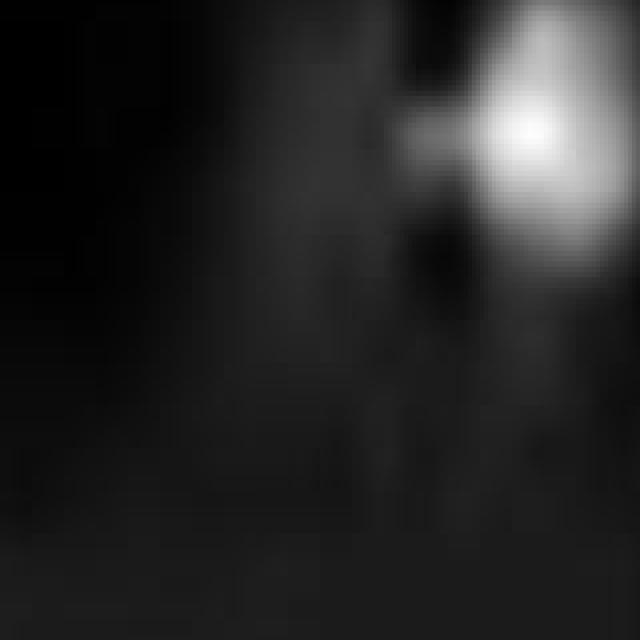person: (369, 1, 640, 300)
